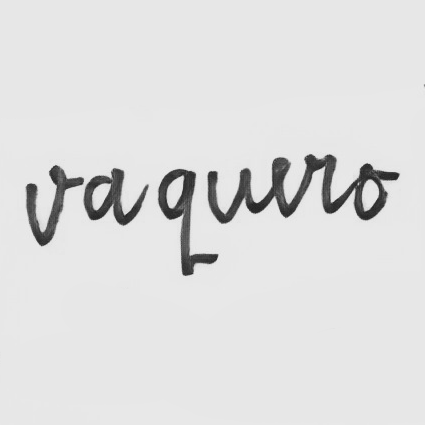a: (81, 165, 129, 228)
e: (266, 154, 295, 220)
o: (350, 161, 390, 223)
q: (154, 167, 198, 279)
r: (296, 152, 342, 215)
u: (204, 166, 257, 225)
v: (22, 163, 72, 247)
